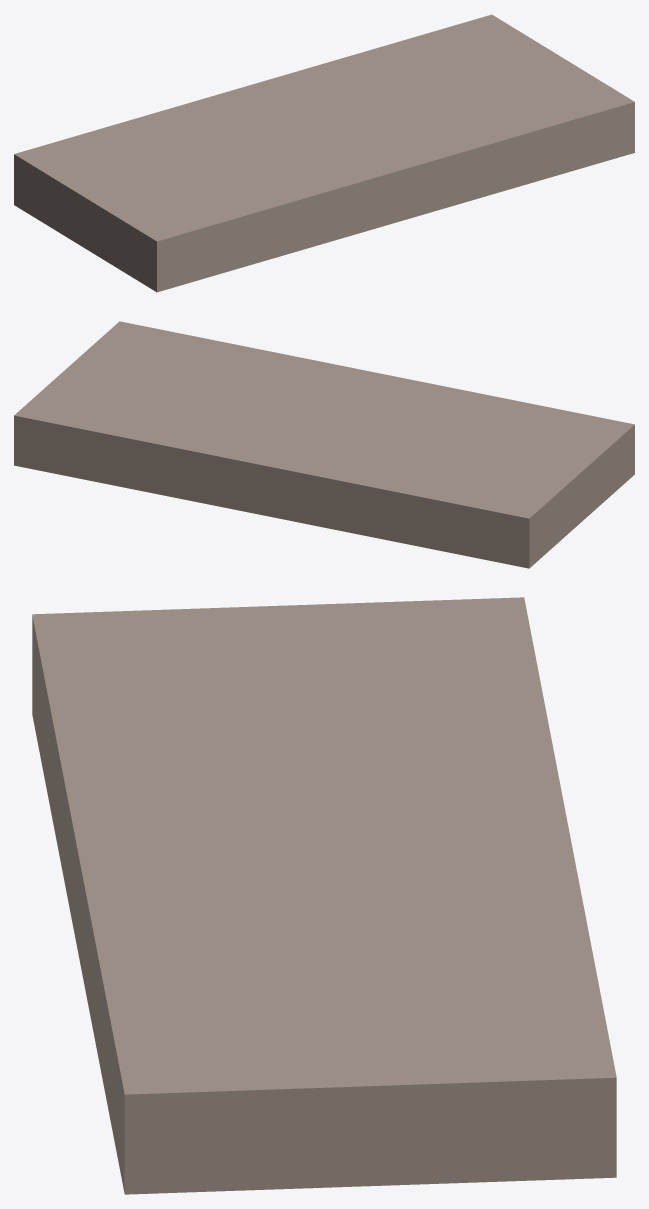
Rendered from Balcony.fbx.
3 views of the same model, one above another, from view 1: azimuth 30°, elevation 25°; view 2: azimuth 150°, elevation 25°; view 3: azimuth 270°, elevation 25° (orthographic). The views are drawn at different scales.
Visible parts, largest first — view 1: pCube25; view 2: pCube25; view 3: pCube25.
Part boxes in pixels (x1=…): pCube25: x1=14, y1=14, x2=634, y2=292; pCube25: x1=14, y1=321, x2=634, y2=568; pCube25: x1=32, y1=597, x2=616, y2=1194.
Bounding box in the file's own units: 2.38 × 0.2234 × 1.18.
